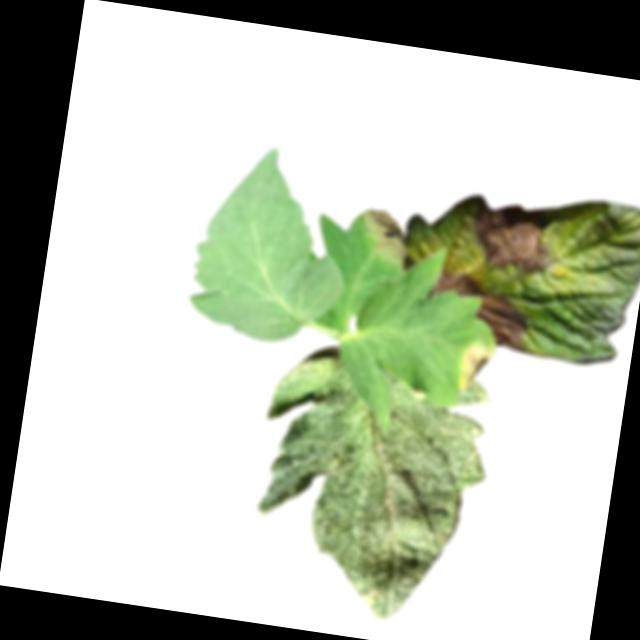Late_blight: (468, 204, 560, 275), (471, 293, 534, 353), (356, 205, 412, 269), (456, 340, 498, 396), (430, 264, 487, 304)
healthy: (240, 350, 500, 631), (183, 136, 364, 352)
